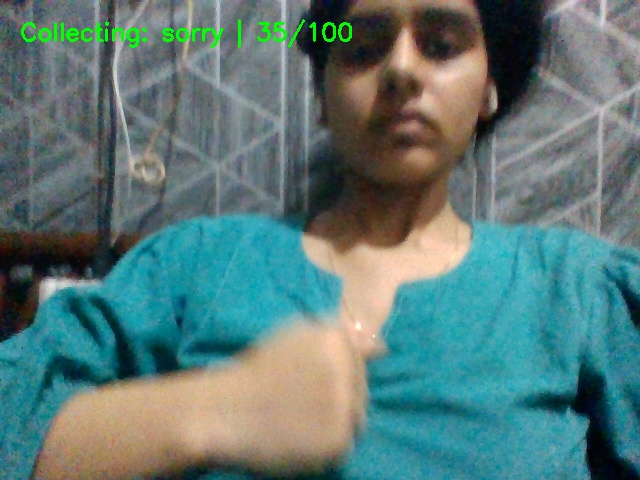sorry: (174, 318, 386, 480)
